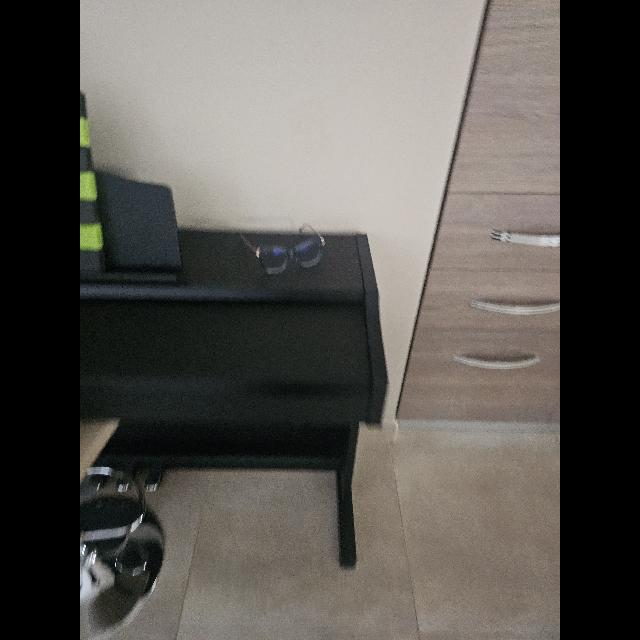glasses: (240, 223, 324, 275)
